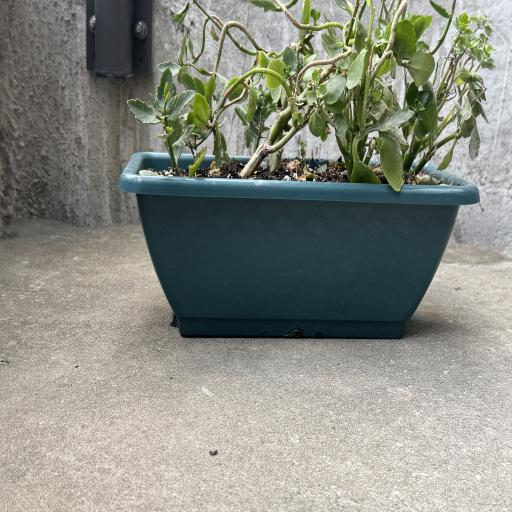Plant Pot: (120, 147, 480, 339)
